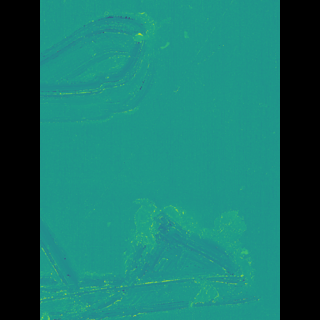Loch: (69, 194, 238, 320), (69, 7, 162, 129)
